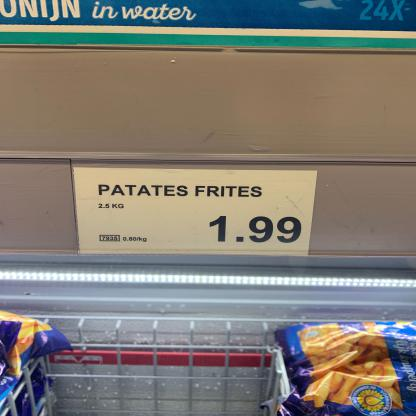prtg: (74, 168, 320, 257)
